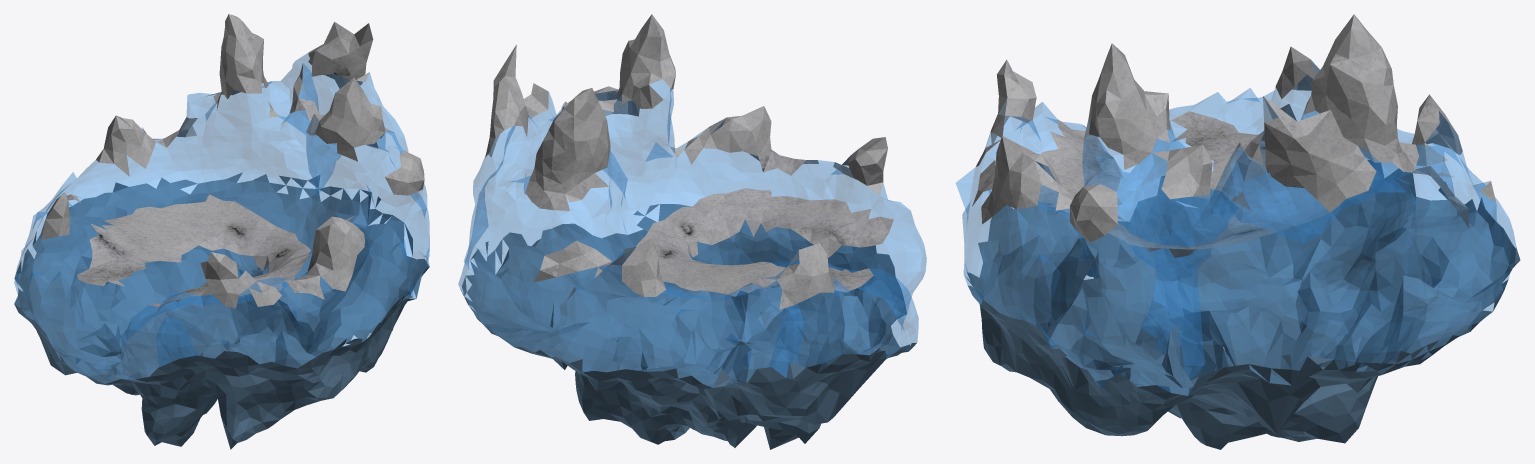
The model's file is ilha_gelo.glb.
The picture shows the model from 3 angles, left to right: view 1: azimuth 30°, elevation 25°; view 2: azimuth 150°, elevation 25°; view 3: azimuth 270°, elevation 25°; orthographic projection. The views are drawn at different scales.
Visible parts, largest first — view 1: Icosphere; view 2: Icosphere; view 3: Icosphere.
Part boxes in pixels (x1,y1,x2,y2): Icosphere: [14, 14, 429, 449]; Icosphere: [458, 14, 926, 449]; Icosphere: [956, 14, 1520, 449].
Size of the model in its own units: 37.19 by 34.45 by 36.68.
Materials: 3 (1 with a texture image).
